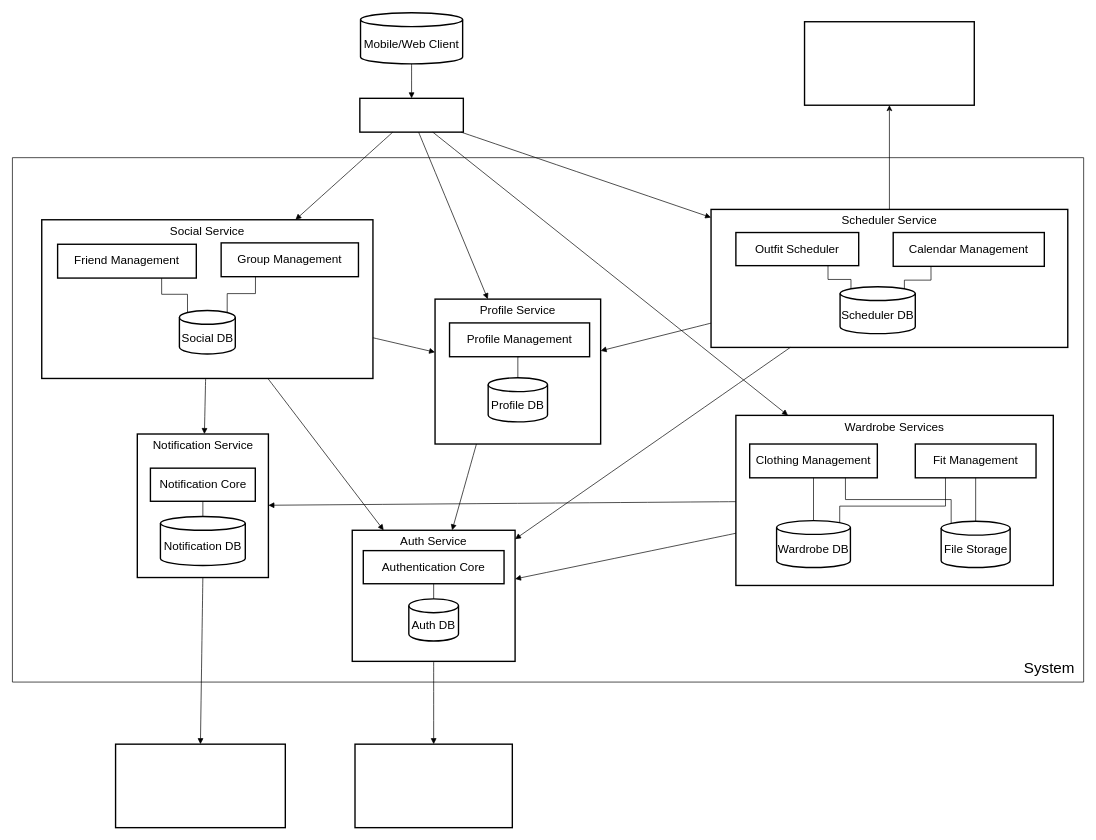
Image size: 1096x840. Some labels were removed from this diagram. Each missing label, with the centre of its shape:
API Gateway: point (411, 114)
Firebase Cloud Messaging: point (200, 785)
Google OAuth: point (433, 785)
OpenWeatherAPI: point (889, 63)
